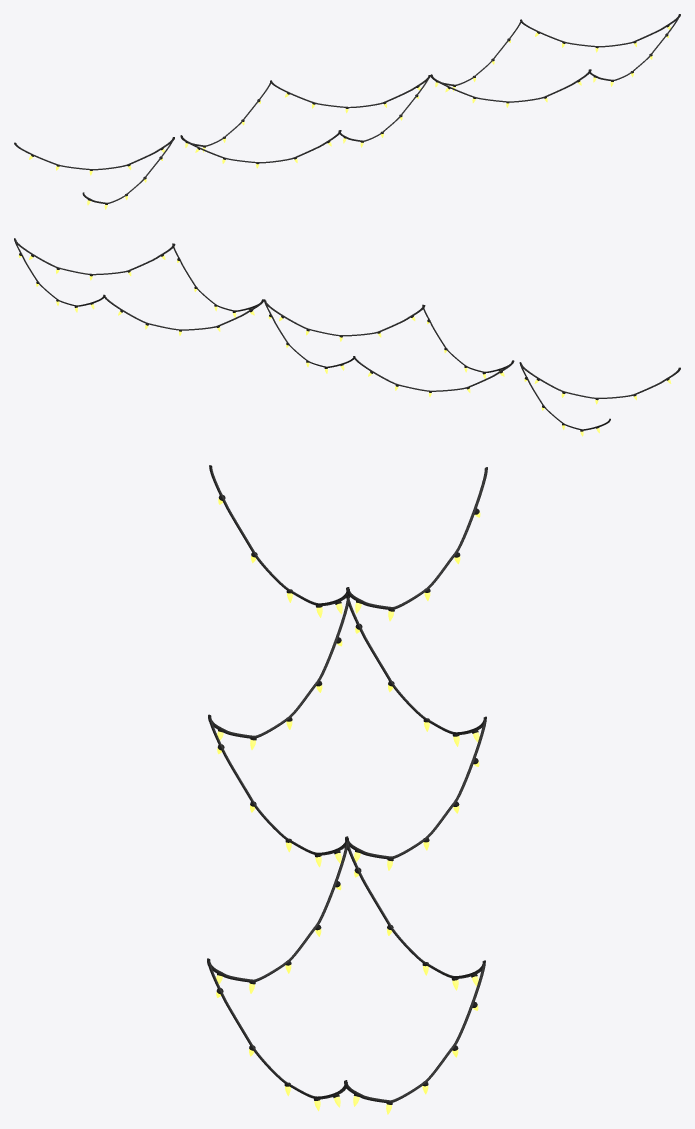
Rendered from Kitchen stringlights.glb.
The picture shows the model from 3 angles, top to bottom: view 1: azimuth 30°, elevation 25°; view 2: azimuth 150°, elevation 25°; view 3: azimuth 270°, elevation 25°; orthographic projection. The views are drawn at different scales.
Parts seen in each view (by area): view 1: Cylinder.191, Cylinder.186, Cylinder.190, Cylinder.198, Cylinder.194, Cylinder.197, Cylinder.193; view 2: Cylinder.197, Cylinder.193, Cylinder.192, Cylinder.187, Cylinder.188, Cylinder.198, Cylinder.194, Cylinder.190; view 3: Cylinder.198, Cylinder.194, Cylinder.186, Cylinder.191, Cylinder.190, Cylinder.197, Cylinder.193, Cylinder.187, Cylinder.192, Cylinder.188.
Boxes of the visible parts, x1,y1,x2,y2 form: Cylinder.191: (432,69,591,107); Cylinder.186: (182,130,341,168); Cylinder.190: (270,75,430,113); Cylinder.198: (14,137,174,175); Cylinder.194: (520,14,680,52); Cylinder.197: (82,138,173,209); Cylinder.193: (588,15,679,86); Cylinder.197: (519,363,680,404); Cylinder.193: (14,239,175,280); Cylinder.192: (103,294,263,335); Cylinder.187: (353,356,514,396); Cylinder.188: (264,301,425,341); Cylinder.198: (519,362,610,436); Cylinder.194: (14,238,105,312); Cylinder.190: (264,299,355,373); Cylinder.198: (346,467,487,621); Cylinder.194: (344,960,485,1114); Cylinder.186: (208,596,349,749); Cylinder.191: (207,840,348,993); Cylinder.190: (345,716,486,870); Cylinder.197: (209,465,349,617); Cylinder.193: (207,958,347,1111); Cylinder.187: (346,594,486,746); Cylinder.192: (345,838,485,990); Cylinder.188: (208,714,348,867).
Size of the model in its own units: 14.18 by 0.8059 by 2.73.
